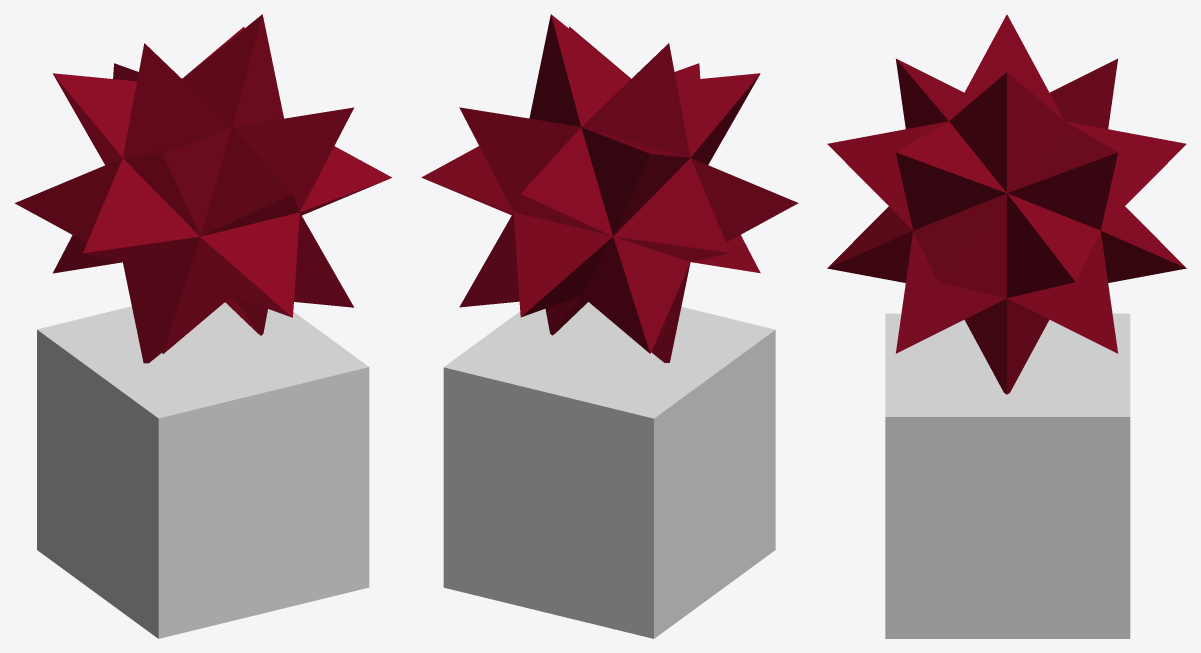
Rendered from barrel3.glb.
3 views of the same model, side by side, from view 1: azimuth 30°, elevation 25°; view 2: azimuth 150°, elevation 25°; view 3: azimuth 270°, elevation 25° (orthographic).
Parts seen in each view (by area): view 1: Cube, node_id3; view 2: Cube, node_id3; view 3: Cube, node_id3.
Boxes of the visible parts, x1,y1,x2,y2 form: Cube: (37, 302, 369, 638); node_id3: (15, 14, 391, 363); Cube: (443, 302, 775, 638); node_id3: (421, 14, 798, 362); Cube: (885, 313, 1130, 638); node_id3: (827, 14, 1186, 394).
Bounding box in the file's own units: 1.76 × 2.94 × 1.76.
2 materials, 1 textured.
